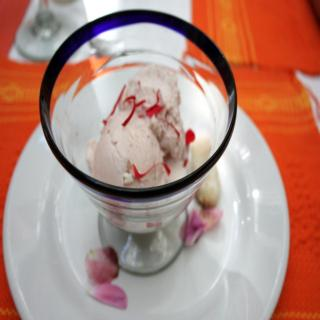Ice cream: (87, 63, 181, 185)
